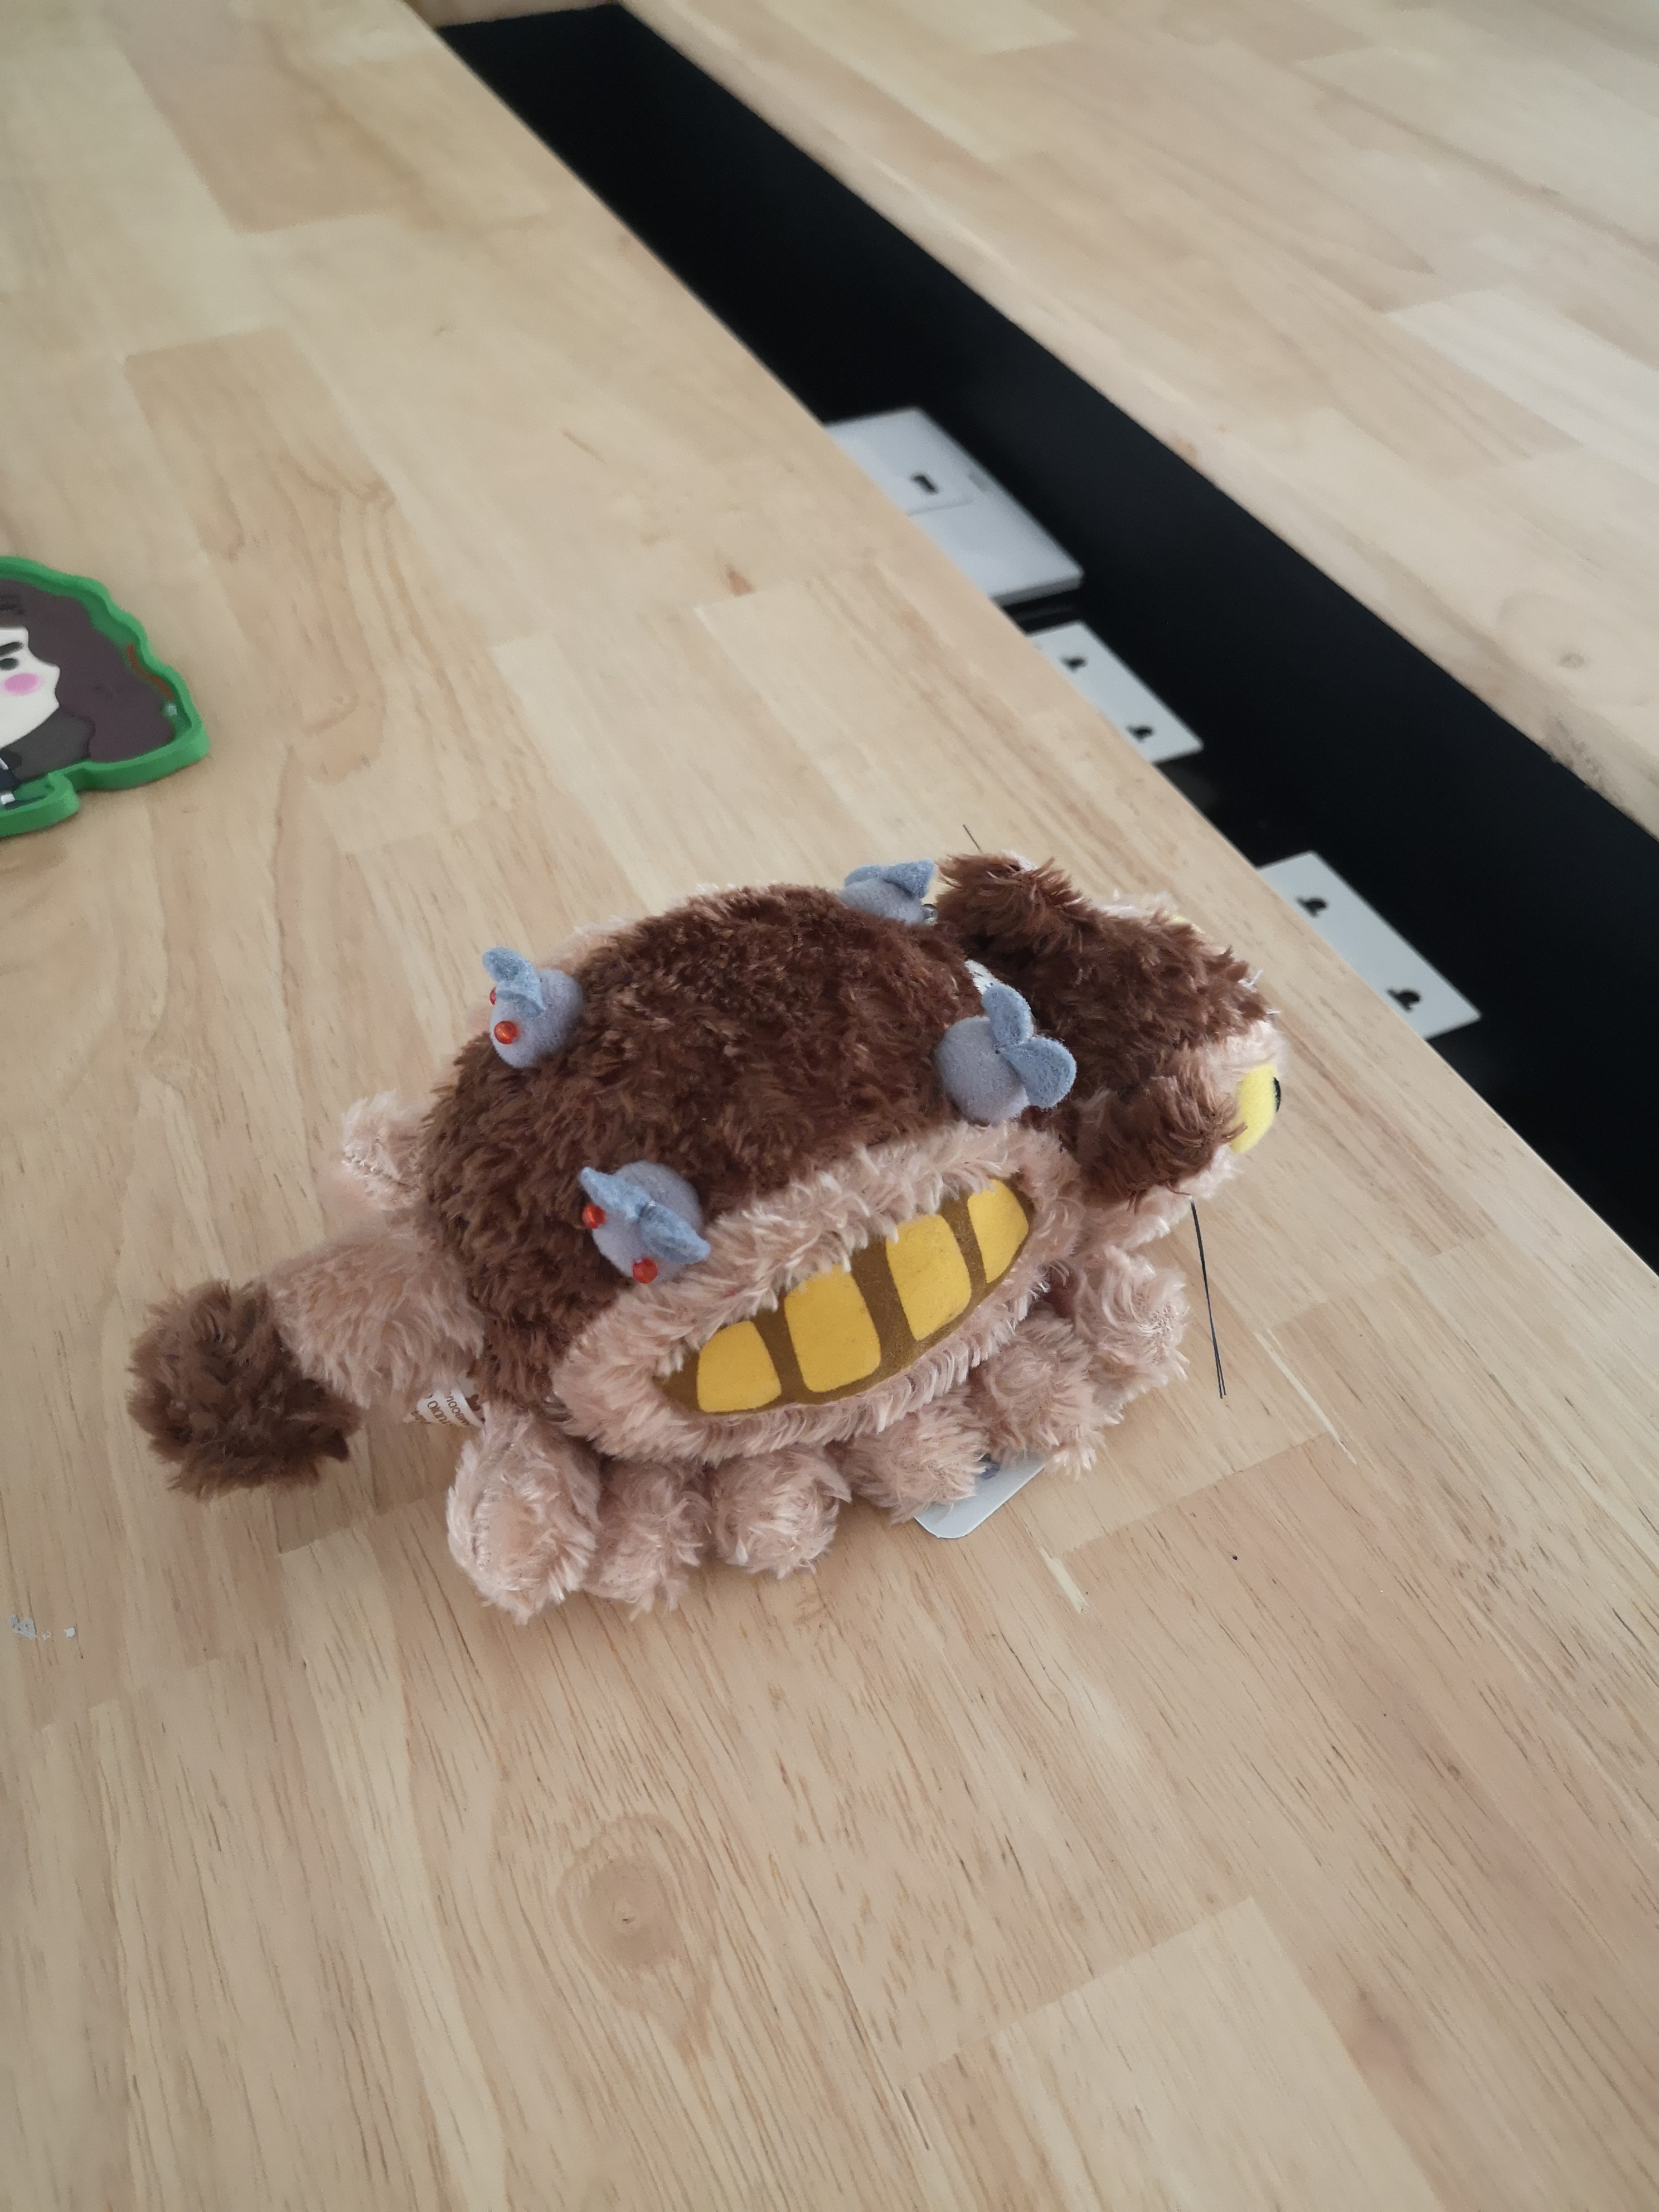nekobus: (112, 819, 1300, 1618)
